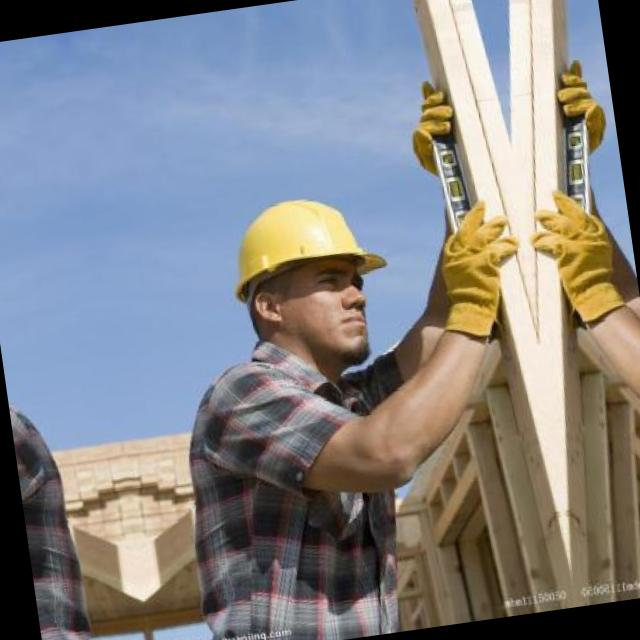helmet: (202, 161, 406, 391)
